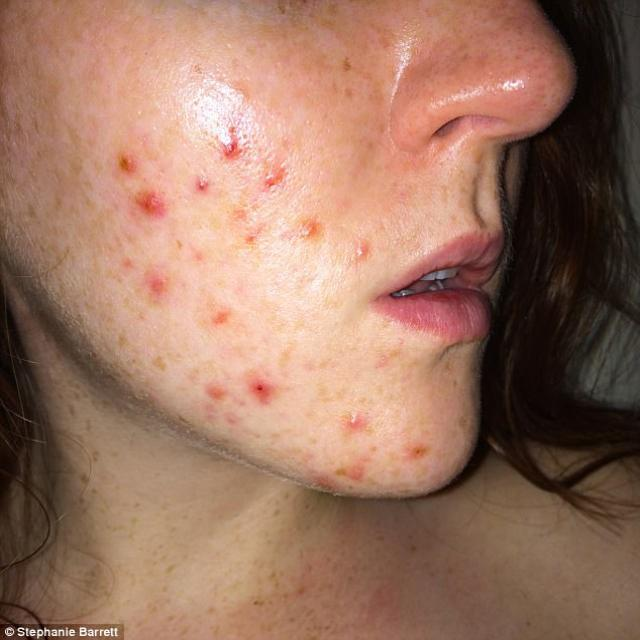Acne: (194, 368, 278, 422), (108, 145, 168, 213), (292, 216, 376, 264), (306, 460, 382, 498), (260, 150, 292, 199), (232, 203, 265, 249), (404, 432, 442, 470), (188, 168, 216, 202), (224, 126, 246, 167), (341, 408, 371, 438), (203, 295, 234, 324), (371, 351, 394, 382), (146, 272, 168, 304), (120, 250, 142, 274)
